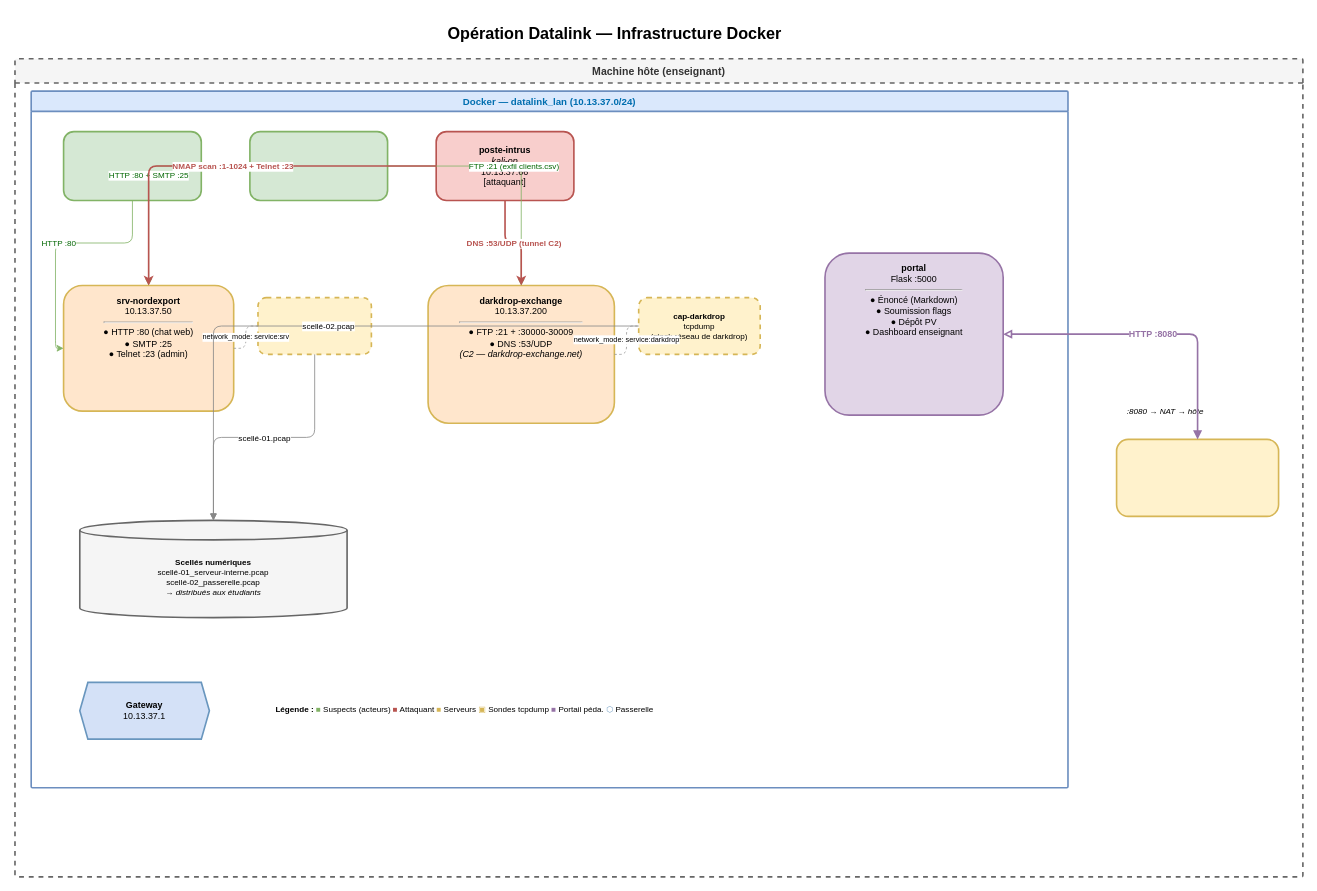
Image size: 1317x891. Some labels were removed from this diagram. Here are the shapes that lost their labels. From the top down, the centre of each, then its label:
At (132,165): "poste-marc pc-marc 10.13.37.10".
At (318,165): "poste-sofia pc-sofia 10.13.37.20".
At (314,325): "cap-srv tcpdump (stack réseau de srv)".
At (1197,477): "Étudiants Navigateur web http://[IP-hôte]:8080".
